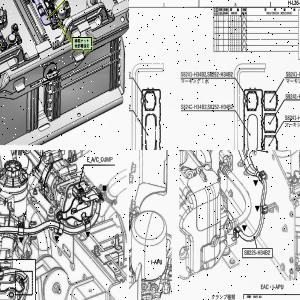PartNumber: (207, 70, 233, 78), (181, 102, 206, 110), (207, 103, 234, 110), (180, 70, 206, 77), (244, 250, 271, 256), (284, 70, 300, 77), (284, 92, 300, 99), (284, 114, 300, 121)
